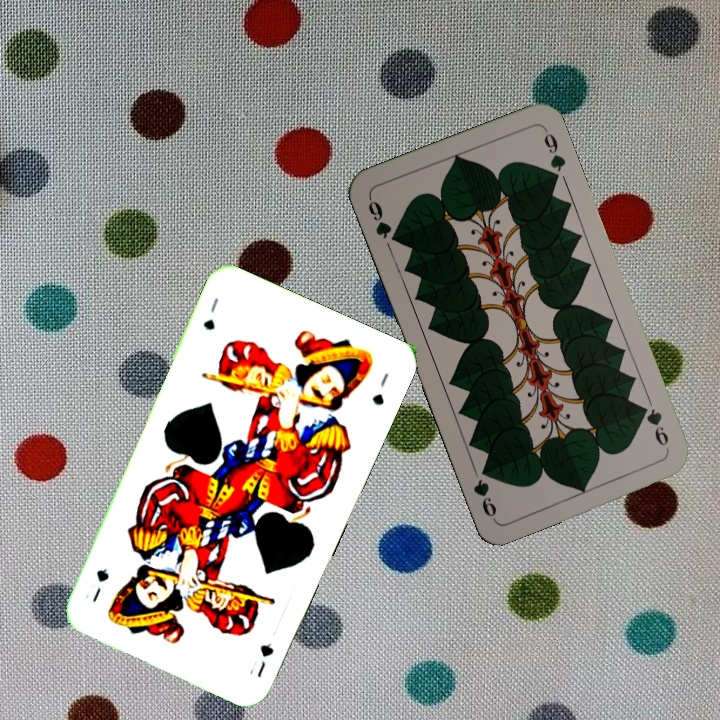G9: (364, 193, 402, 246), (636, 401, 671, 449)
GU: (253, 638, 277, 680), (198, 293, 221, 333)
